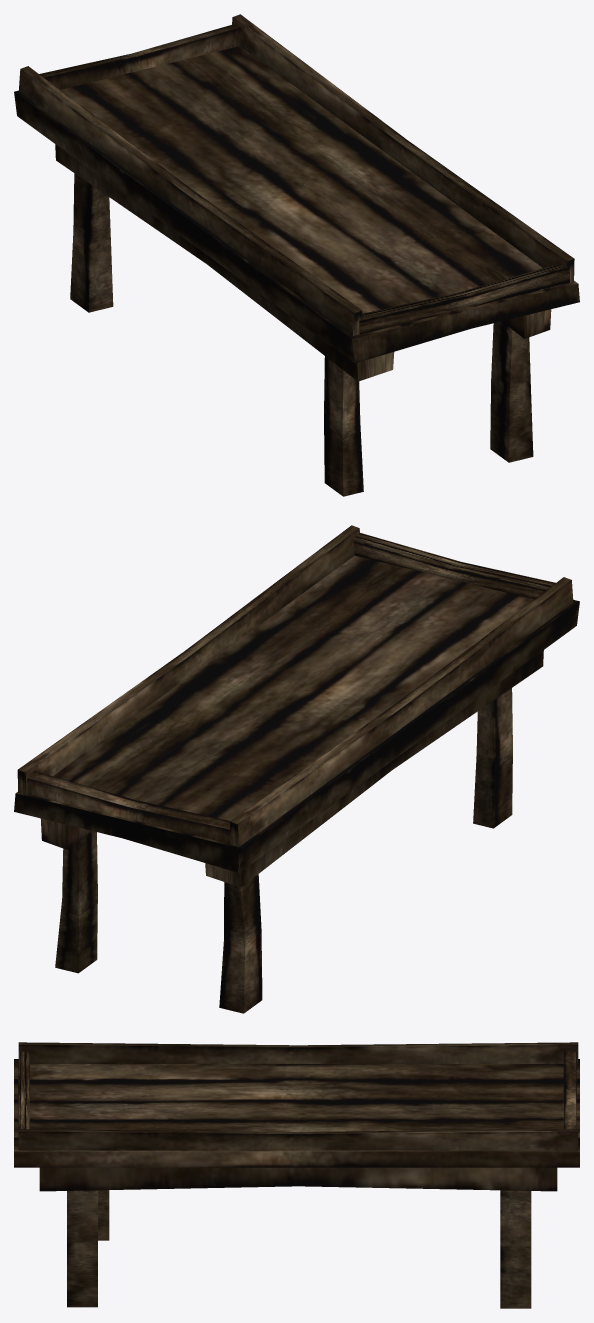
Rendered from table_dice.fbx.
The picture shows the model from 3 angles, top to bottom: view 1: azimuth 30°, elevation 25°; view 2: azimuth 150°, elevation 25°; view 3: azimuth 270°, elevation 25°; orthographic projection. The views are drawn at different scales.
Visible parts, largest first — view 1: polySurface14, polySurface58, polySurface57, polySurface18, polySurface54, polySurface16, polySurface19, polySurface59, polySurface60, polySurface56; view 2: polySurface14, polySurface58, polySurface57, polySurface54, polySurface55, polySurface19, polySurface60, polySurface16, polySurface59, polySurface56; view 3: polySurface14, polySurface57, polySurface56, polySurface58, polySurface55, polySurface18, polySurface60, polySurface59, polySurface19.
Boxes of the visible parts, x1,y1,x2,y2 form: polySurface14: [14, 46, 579, 363]; polySurface58: [18, 66, 362, 335]; polySurface57: [232, 14, 574, 282]; polySurface18: [490, 321, 533, 462]; polySurface54: [70, 173, 113, 312]; polySurface16: [55, 144, 394, 381]; polySurface19: [324, 356, 363, 496]; polySurface59: [359, 263, 569, 334]; polySurface60: [39, 24, 240, 89]; polySurface56: [502, 309, 551, 338]; polySurface14: [14, 555, 579, 872]; polySurface58: [230, 577, 573, 846]; polySurface57: [17, 525, 359, 794]; polySurface54: [219, 874, 262, 1013]; polySurface55: [55, 831, 97, 973]; polySurface19: [473, 688, 512, 828]; polySurface60: [27, 771, 230, 843]; polySurface16: [205, 650, 543, 887]; polySurface59: [354, 533, 555, 599]; polySurface56: [40, 818, 91, 849]; polySurface14: [14, 1059, 579, 1167]; polySurface57: [18, 1129, 578, 1150]; polySurface56: [39, 1167, 557, 1191]; polySurface58: [18, 1042, 578, 1063]; polySurface55: [500, 1190, 531, 1308]; polySurface18: [67, 1190, 97, 1307]; polySurface60: [563, 1051, 576, 1129]; polySurface59: [18, 1051, 29, 1148]; polySurface19: [98, 1190, 109, 1240].
Size of the model in its own units: 368 by 333 by 944.
Materials: 1 (1 with a texture image).
